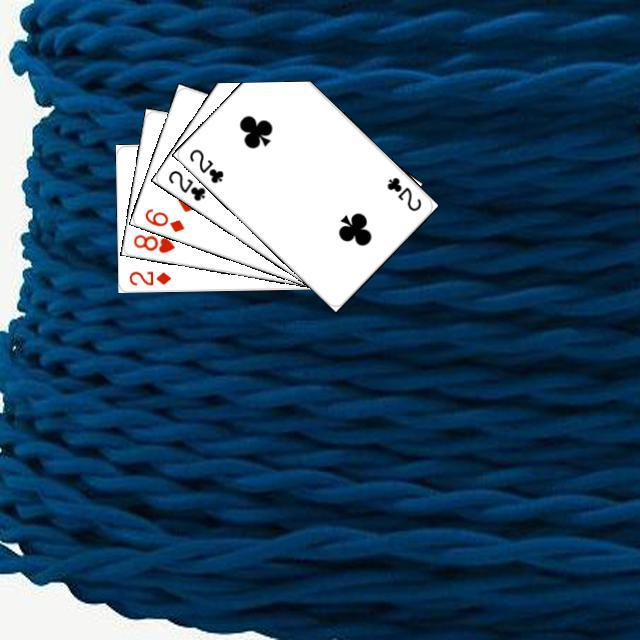2c: (184, 144, 225, 185), (382, 172, 423, 213), (163, 165, 207, 203)
2d: (124, 266, 173, 287)
6d: (140, 203, 186, 234)
8h: (128, 229, 176, 255)
